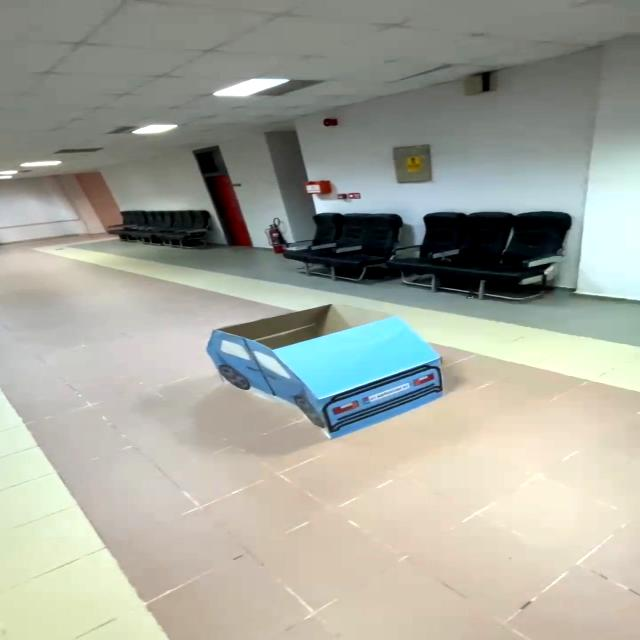blue_car: (187, 296, 477, 445)
